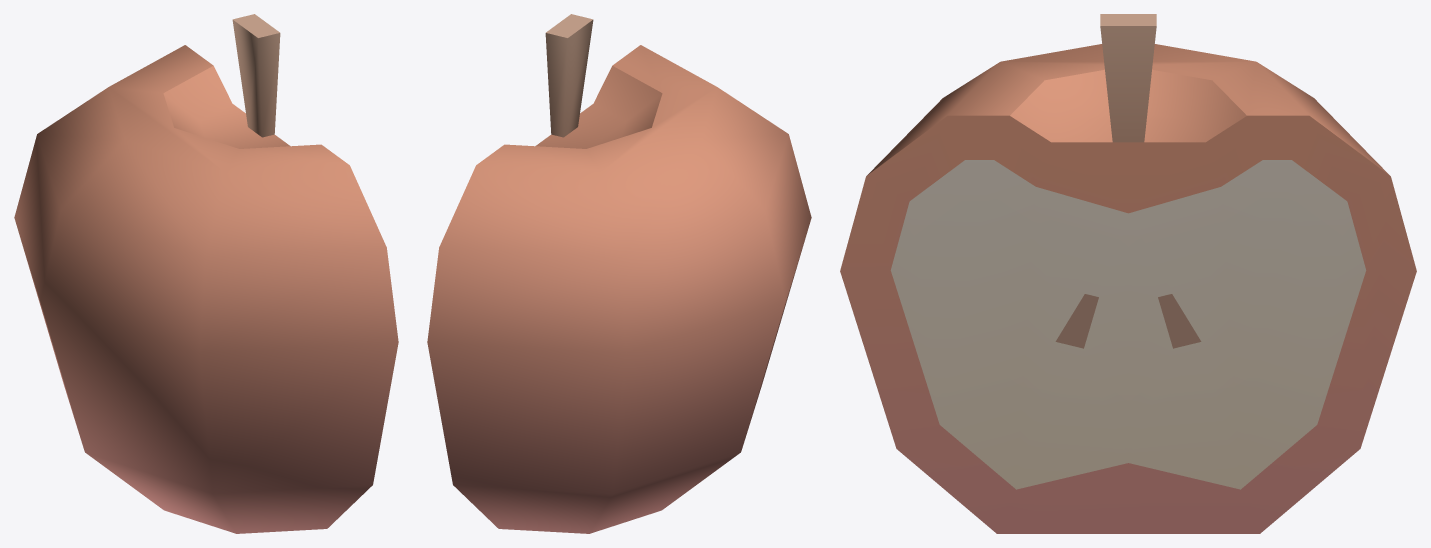
Rendered from apple-half.glb.
3 views of the same model, side by side, from view 1: azimuth 30°, elevation 25°; view 2: azimuth 150°, elevation 25°; view 3: azimuth 270°, elevation 25° (orthographic). The views are drawn at different scales.
Parts seen in each view (by area): view 1: apple-half; view 2: apple-half; view 3: apple-half.
Part boxes in pixels (bbox=[...]): apple-half: bbox=[14, 14, 398, 533]; apple-half: bbox=[427, 14, 811, 533]; apple-half: bbox=[840, 14, 1416, 533].
Size of the model in its own units: 0.0981 by 0.1908 by 0.1963.
